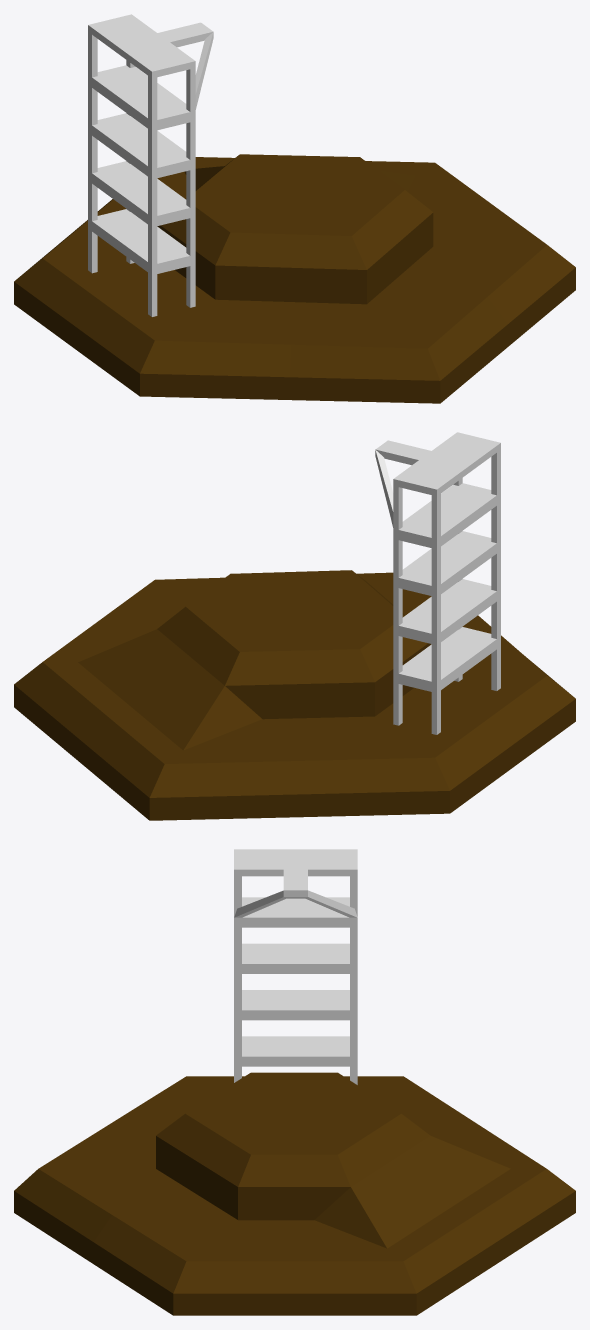
Rendered from spaceport.fbx.
The picture shows the model from 3 angles, top to bottom: view 1: azimuth 30°, elevation 25°; view 2: azimuth 150°, elevation 25°; view 3: azimuth 270°, elevation 25°; orthographic projection. The views are drawn at different scales.
Visible parts, largest first — view 1: SpacePort Base, SpacePort; view 2: SpacePort Base, SpacePort; view 3: SpacePort Base, SpacePort.
Part boxes in pixels (x1,y1,x2,y2): SpacePort Base: [14, 154, 575, 403]; SpacePort: [88, 14, 213, 316]; SpacePort Base: [14, 570, 575, 820]; SpacePort: [375, 432, 500, 734]; SpacePort Base: [14, 1072, 575, 1315]; SpacePort: [234, 849, 357, 1084].
Size of the model in its own units: 200 by 128 by 231.
